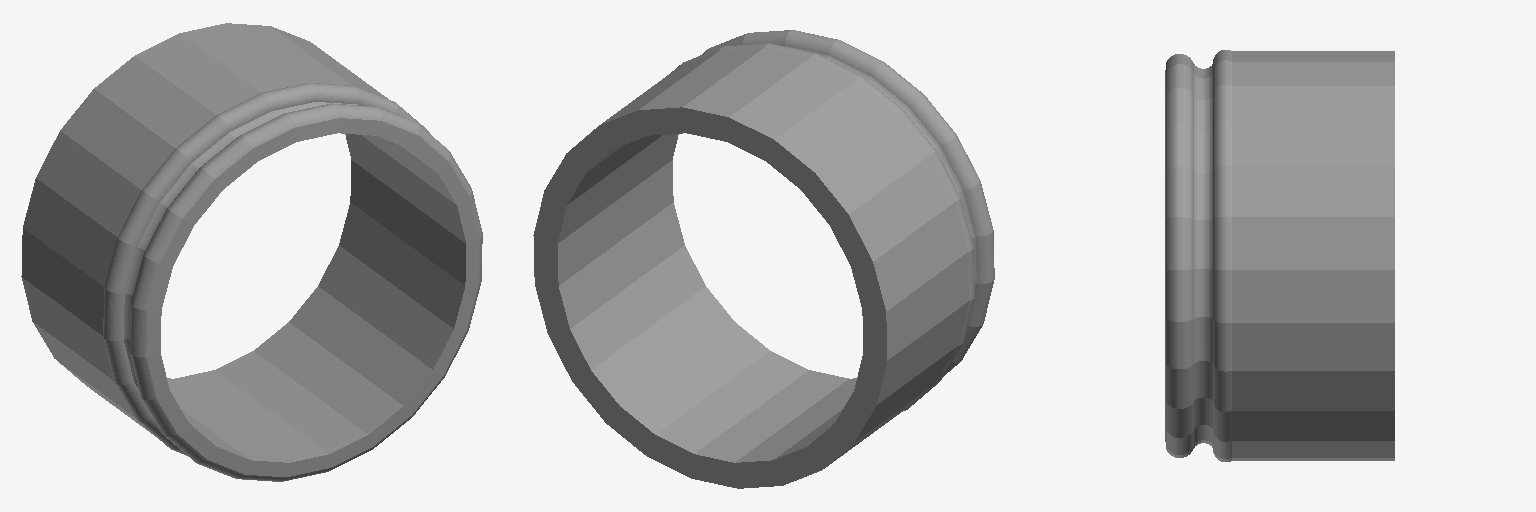
Rendered from zakljucni_obroc_centered.obj.
3 renders of one model, left to right at view 1: azimuth 30°, elevation 25°; view 2: azimuth 150°, elevation 25°; view 3: azimuth 270°, elevation 25°, orthographic.
Parts seen in each view (by area): view 1: animacija-SKP-Default_Material; view 2: animacija-SKP-Default_Material; view 3: animacija-SKP-Default_Material.
Part boxes in pixels (bbox=[...]): animacija-SKP-Default_Material: bbox=[21, 23, 482, 481]; animacija-SKP-Default_Material: bbox=[533, 30, 994, 488]; animacija-SKP-Default_Material: bbox=[1165, 50, 1394, 461].
Bounding box in the file's own units: 0.2522 × 0.2522 × 0.141.